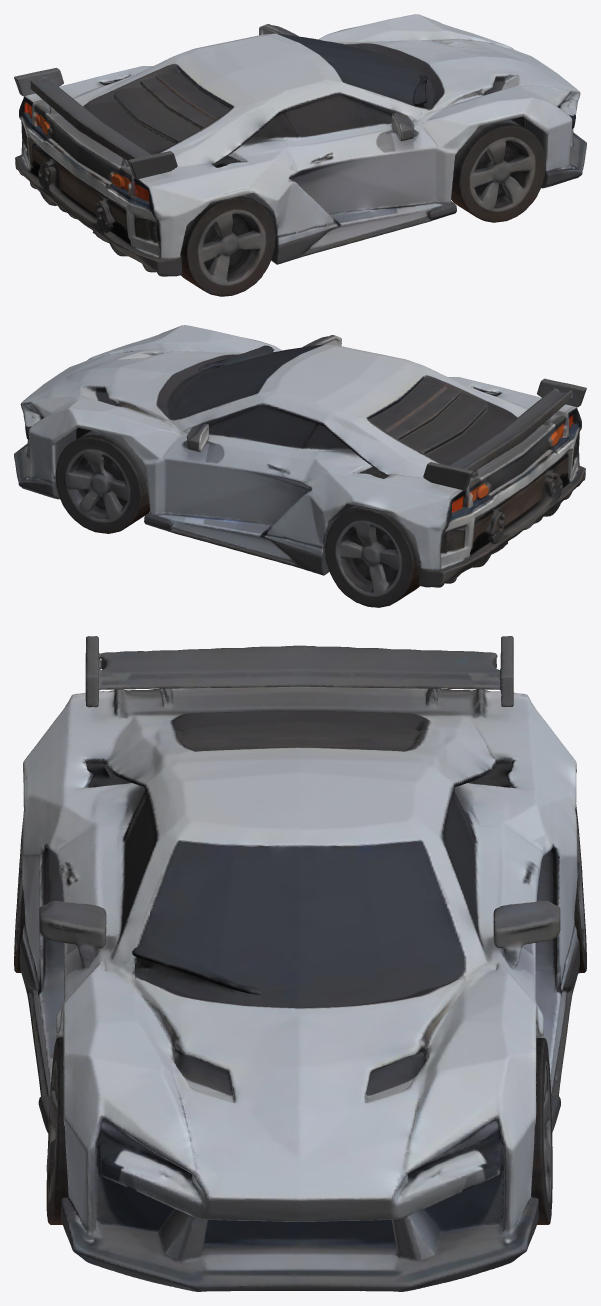
The model's file is sports_car.glb.
3 views of the same model, one above another, from view 1: azimuth 30°, elevation 25°; view 2: azimuth 150°, elevation 25°; view 3: azimuth 270°, elevation 25° (orthographic). The views are drawn at different scales.
Visible parts, largest first — view 1: tripo_node_1ec7c77b-0a9f-45ac-83ac-89dcb1249304; view 2: tripo_node_1ec7c77b-0a9f-45ac-83ac-89dcb1249304; view 3: tripo_node_1ec7c77b-0a9f-45ac-83ac-89dcb1249304.
Part boxes in pixels (bbox=[...]): tripo_node_1ec7c77b-0a9f-45ac-83ac-89dcb1249304: bbox=[14, 14, 586, 296]; tripo_node_1ec7c77b-0a9f-45ac-83ac-89dcb1249304: bbox=[14, 325, 586, 607]; tripo_node_1ec7c77b-0a9f-45ac-83ac-89dcb1249304: bbox=[14, 636, 586, 1291].
Bounding box in the file's own units: 1 × 0.2954 × 0.5579.
1 material, 1 textured.
